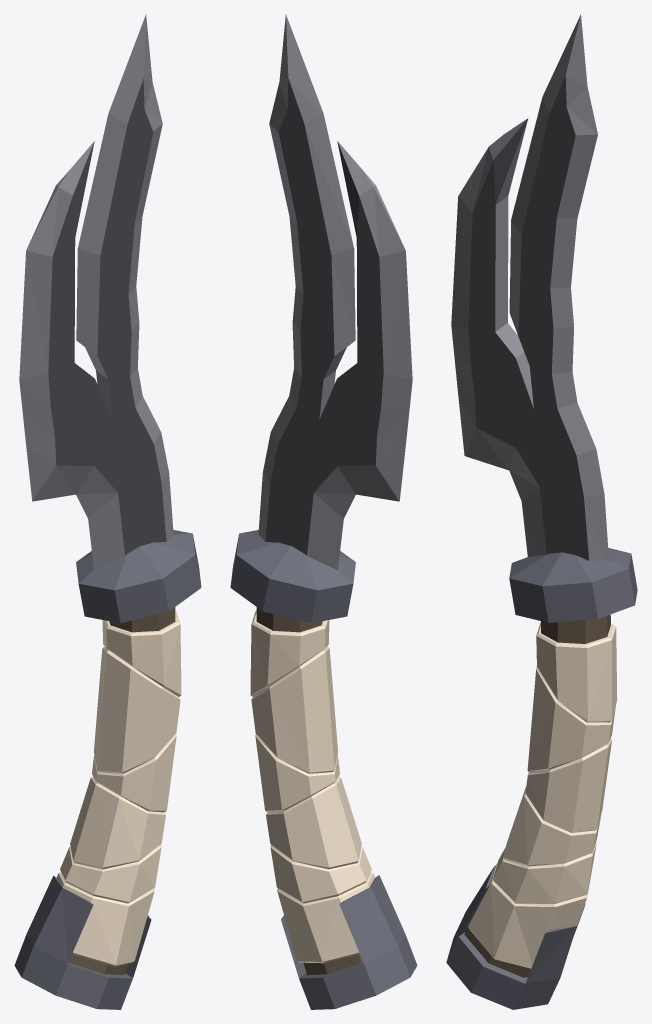
Rendered from dagger_dagger_17.glb.
3 renders of one model, left to right at view 1: azimuth 30°, elevation 25°; view 2: azimuth 150°, elevation 25°; view 3: azimuth 330°, elevation 25°, orthographic. The views are drawn at different scales.
Parts seen in each view (by area): view 1: dagger_17; view 2: dagger_17; view 3: dagger_17.
Boxes of the visible parts, bbox=[...] form: dagger_17: bbox=[14, 14, 201, 1009]; dagger_17: bbox=[230, 14, 417, 1009]; dagger_17: bbox=[446, 14, 637, 1009].
Size of the model in its own units: 9.97 by 51.74 by 5.6.
Materials: 1 (1 with a texture image).
